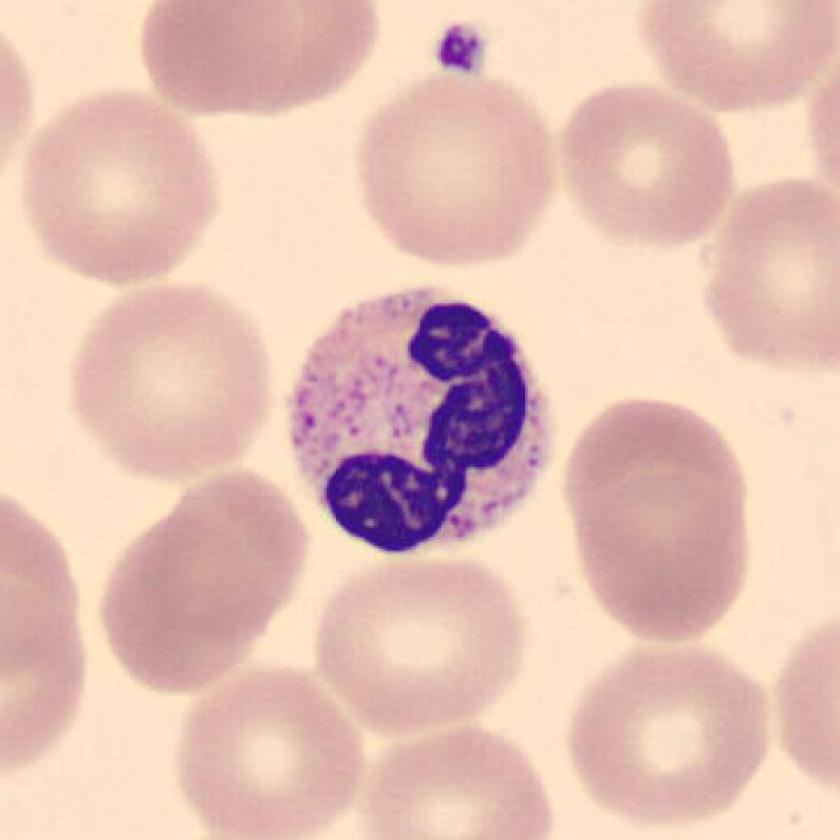neutrophil: (290, 291, 552, 555)
